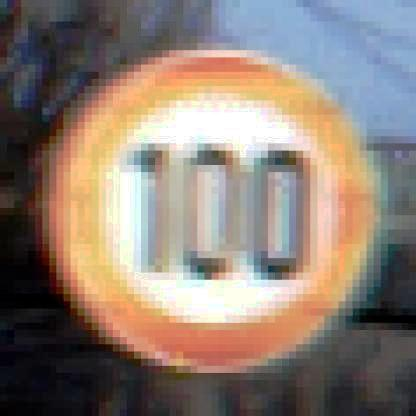Speed Limit -100-: (44, 47, 389, 377)
